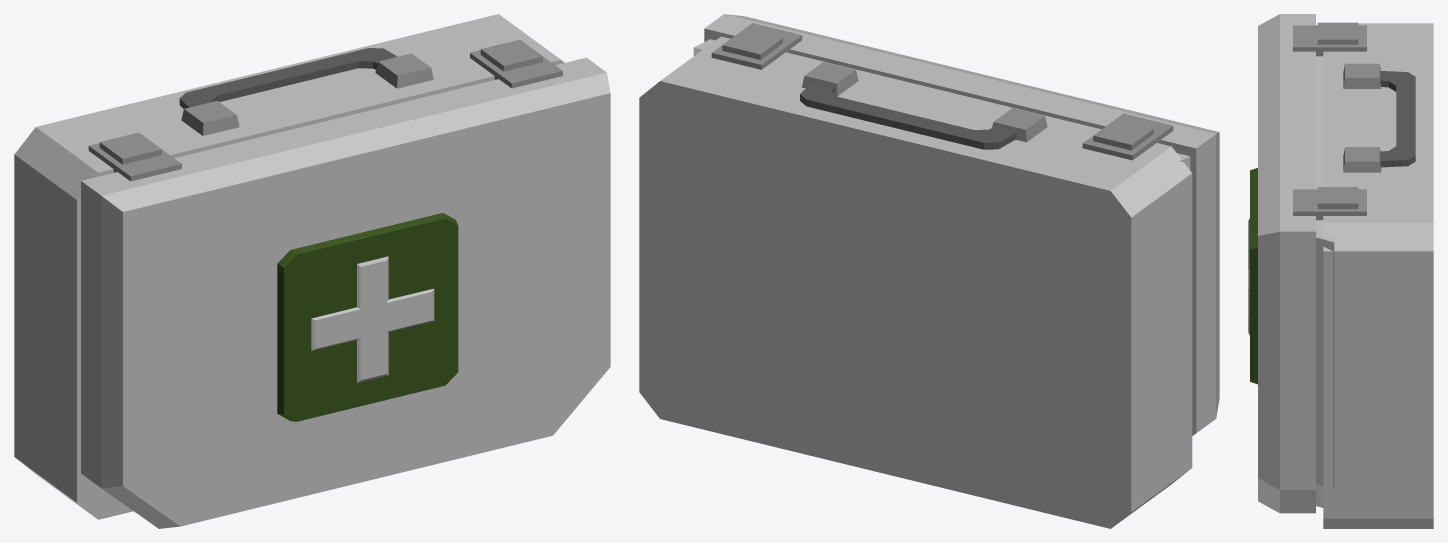
The model's file is firstaidkit-hard-cebbc900b1.glb.
The picture shows the model from 3 angles, left to right: view 1: azimuth 30°, elevation 25°; view 2: azimuth 150°, elevation 25°; view 3: azimuth 270°, elevation 25°; orthographic projection. The views are drawn at different scales.
Visible parts, largest first — view 1: FirstAidKit_Hard.obj; view 2: FirstAidKit_Hard.obj; view 3: FirstAidKit_Hard.obj.
Part boxes in pixels (left/top/right/bottom): FirstAidKit_Hard.obj: left=14, top=14, right=610, bottom=528; FirstAidKit_Hard.obj: left=639, top=14, right=1219, bottom=528; FirstAidKit_Hard.obj: left=1248, top=14, right=1433, bottom=528.
Bounding box in the file's own units: 1.88 × 1.28 × 0.677.
